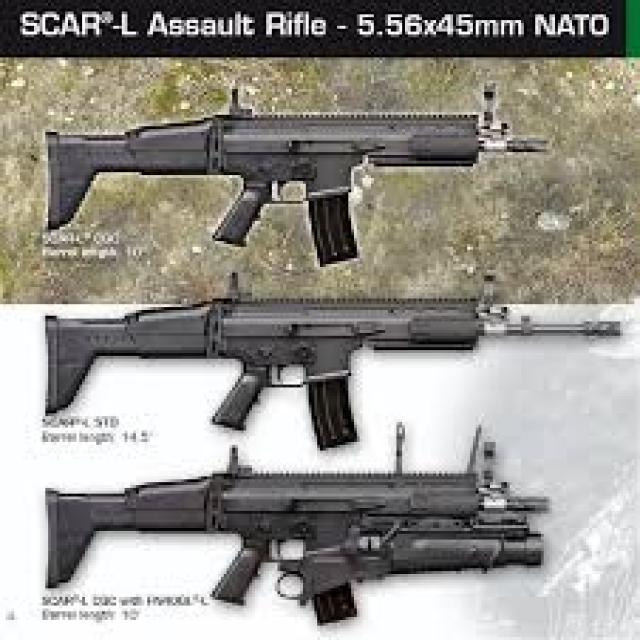Gun: (38, 287, 637, 460), (33, 96, 564, 265), (35, 465, 571, 621)
